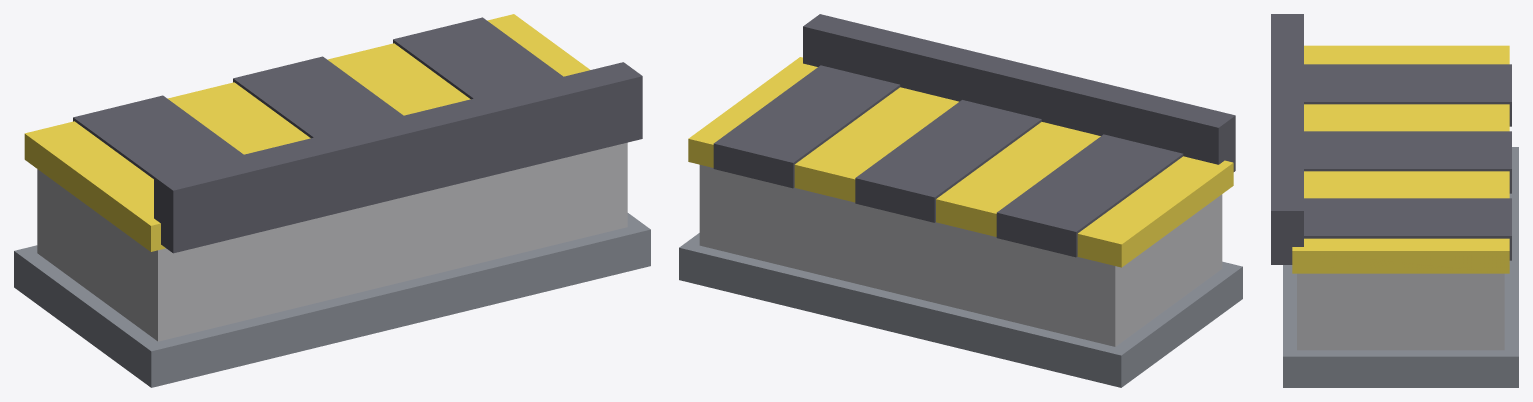
Rendered from pit_kerb.glb.
3 renders of one model, left to right at view 1: azimuth 30°, elevation 25°; view 2: azimuth 150°, elevation 25°; view 3: azimuth 270°, elevation 25°, orthographic. The views are drawn at different scales.
Parts seen in each view (by area): view 1: pit_kerb; view 2: pit_kerb; view 3: pit_kerb.
Boxes of the visible parts, bbox=[...] form: pit_kerb: bbox=[14, 14, 650, 387]; pit_kerb: bbox=[679, 14, 1242, 387]; pit_kerb: bbox=[1271, 14, 1518, 387].
Size of the model in its own units: 1 by 0.38 by 0.5.
